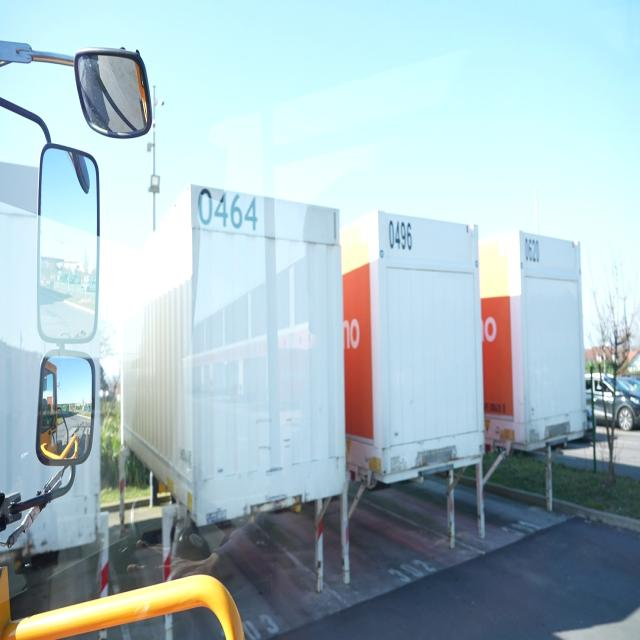Code: (197, 183, 259, 236), (385, 212, 414, 255), (521, 233, 541, 267)
